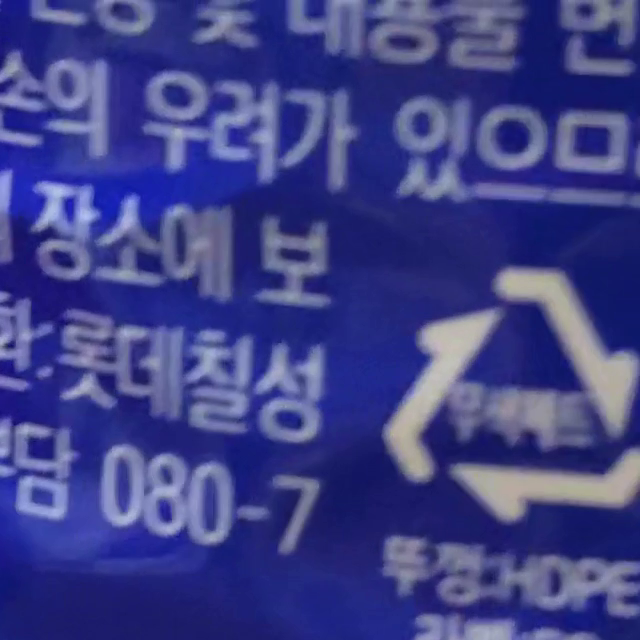ColorlessPet: (382, 266, 634, 523)
